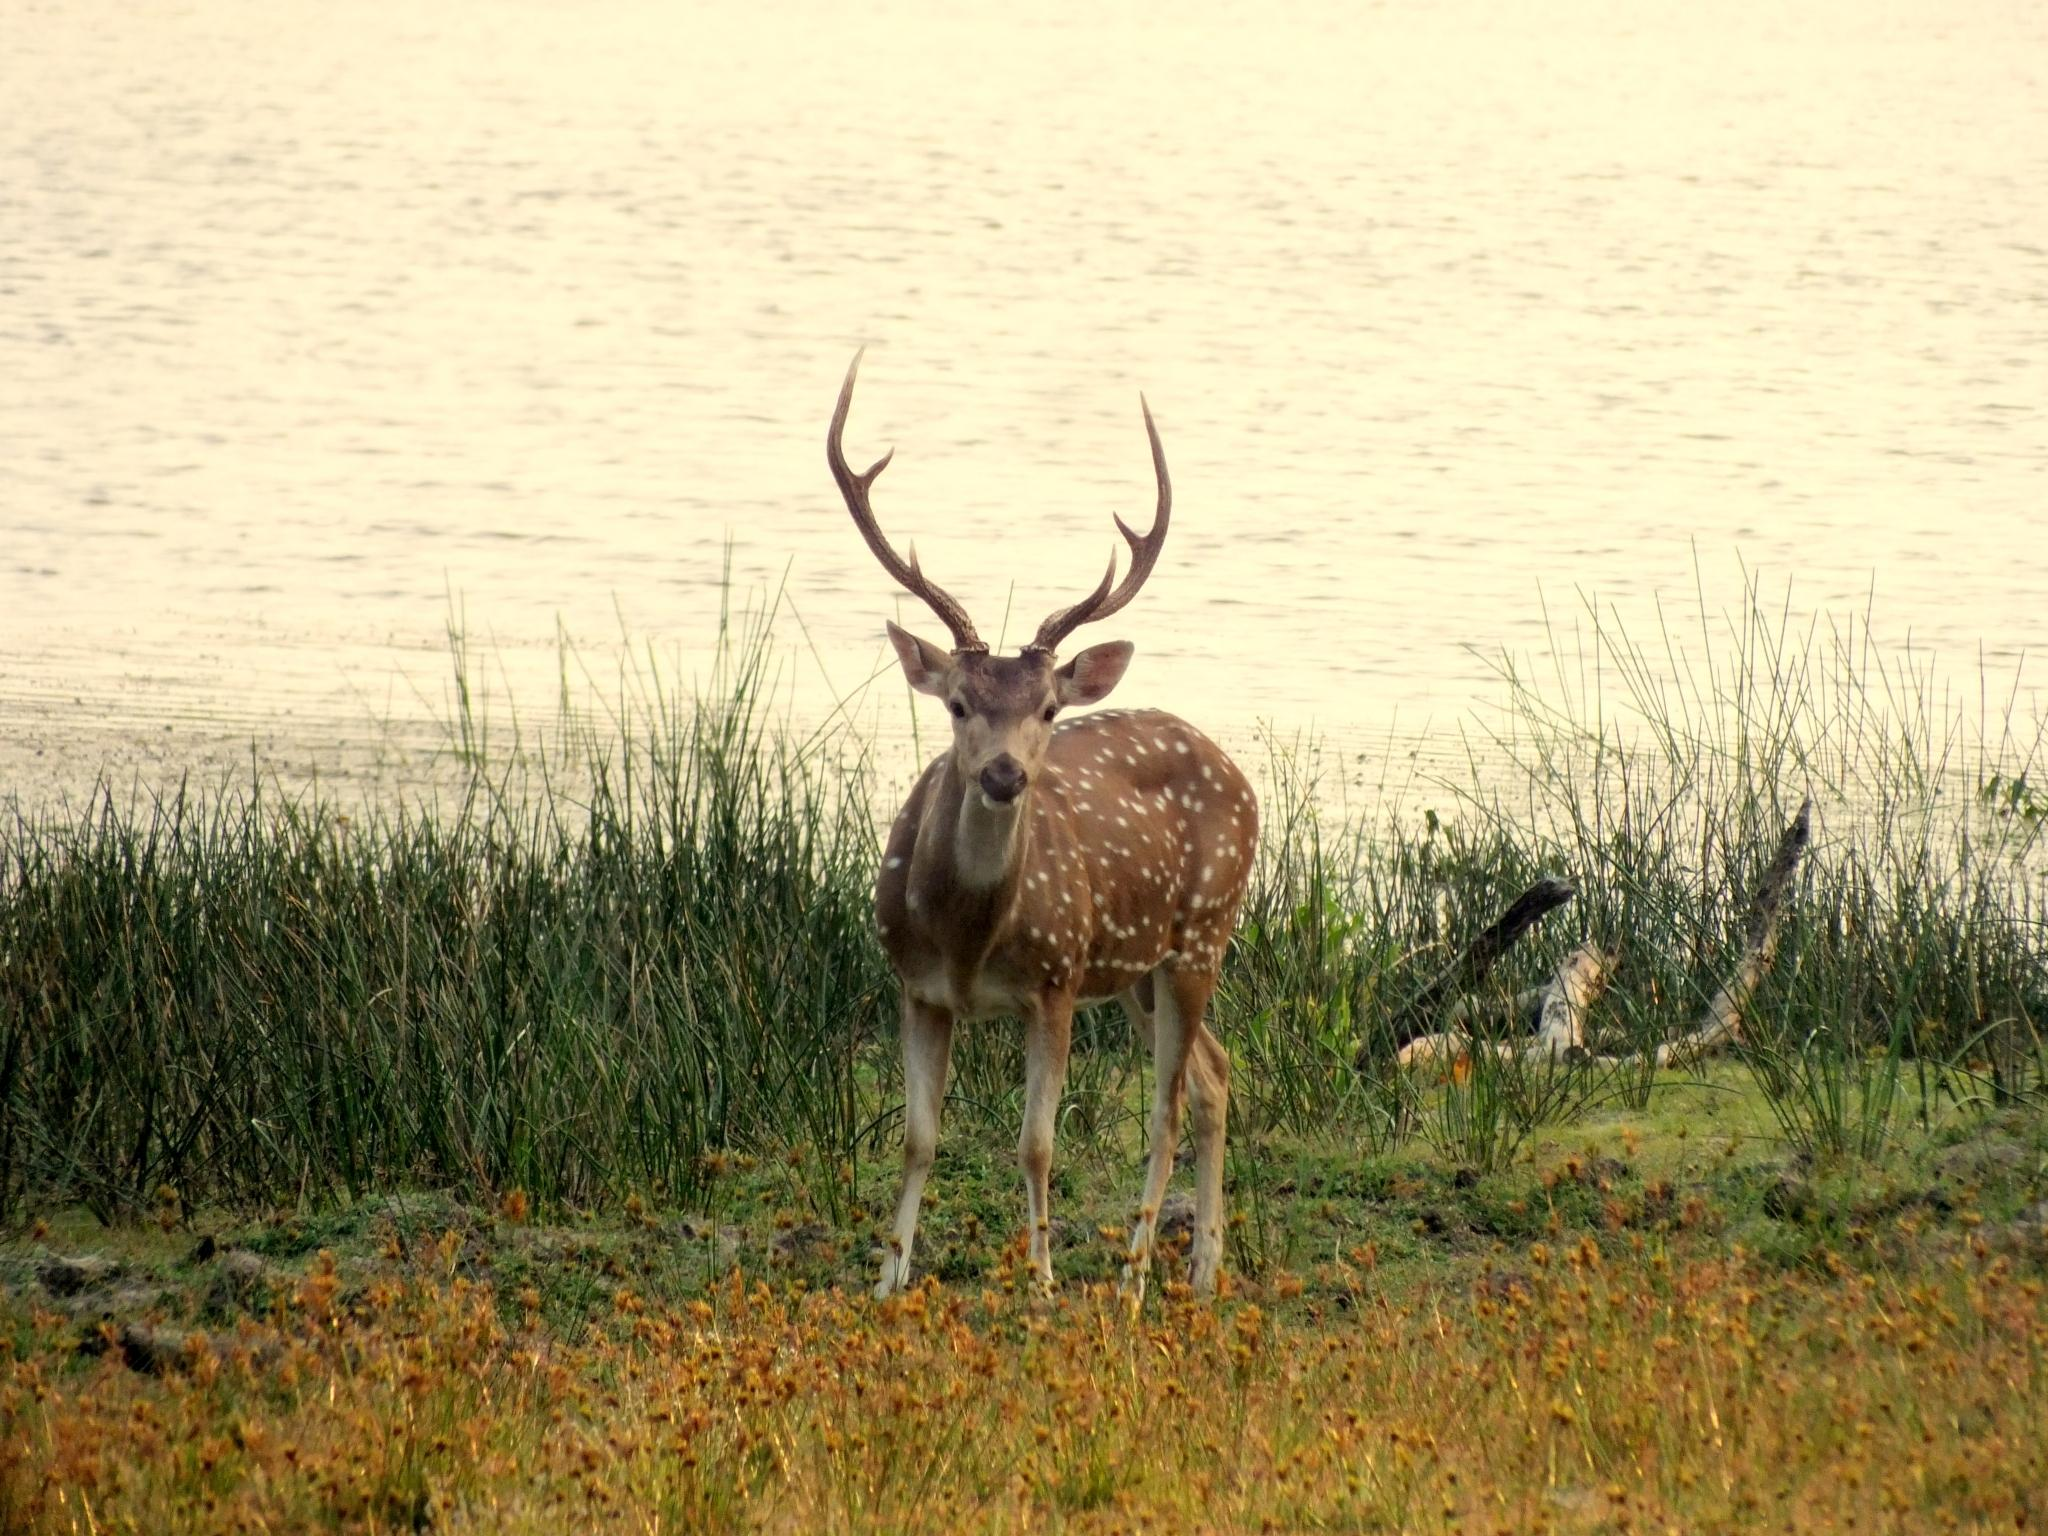Deer: (827, 352, 1258, 1292)
